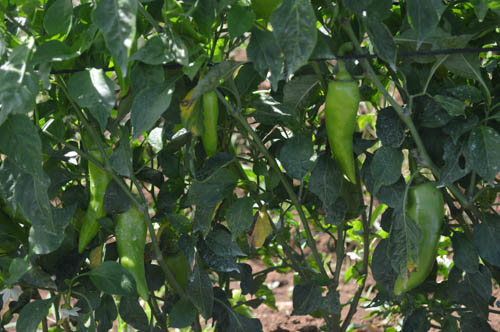ChiliPepper: (397, 184, 440, 300), (75, 147, 113, 260), (323, 81, 360, 186), (114, 212, 149, 299), (194, 92, 224, 159)
